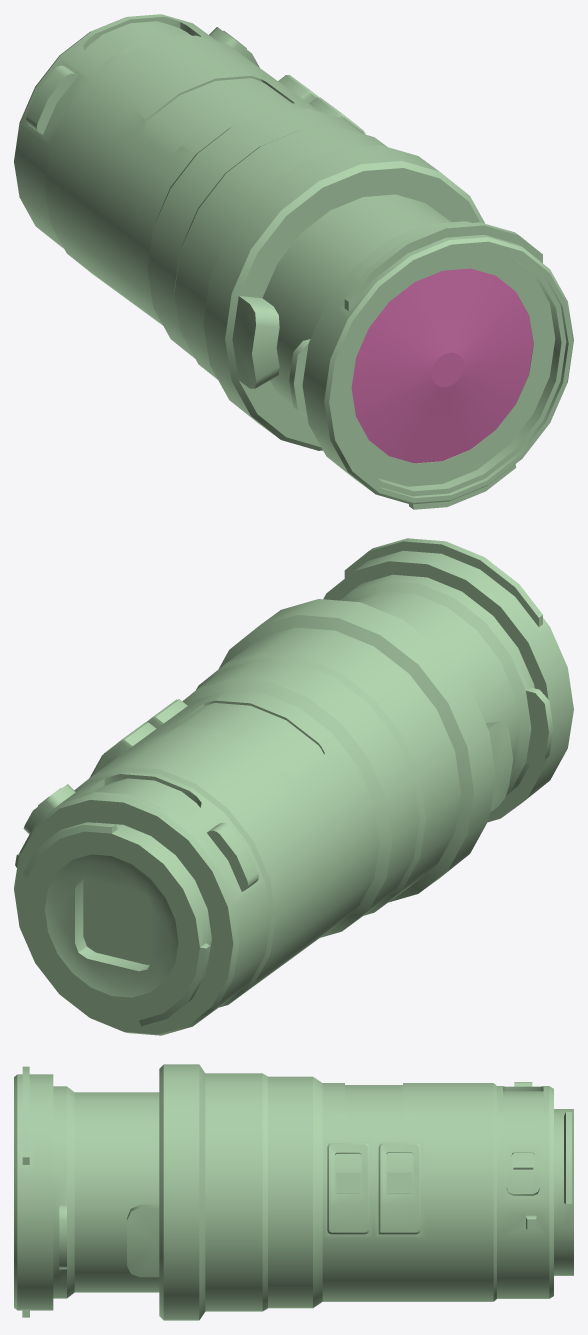
The model's file is Modern Zoom Lens with Glass.fbx.
The picture shows the model from 3 angles, top to bottom: view 1: azimuth 30°, elevation 25°; view 2: azimuth 150°, elevation 25°; view 3: azimuth 270°, elevation 25°; orthographic projection. The views are drawn at different scales.
Parts seen in each view (by area): view 1: Cylinder; view 2: Cylinder; view 3: Cylinder.
Boxes of the visible parts, x1,y1,x2,y2 form: Cylinder: (14, 14, 573, 509); Cylinder: (14, 538, 573, 1035); Cylinder: (14, 1064, 573, 1320).
Size of the model in its own units: 9.87 by 9.87 by 21.43.
